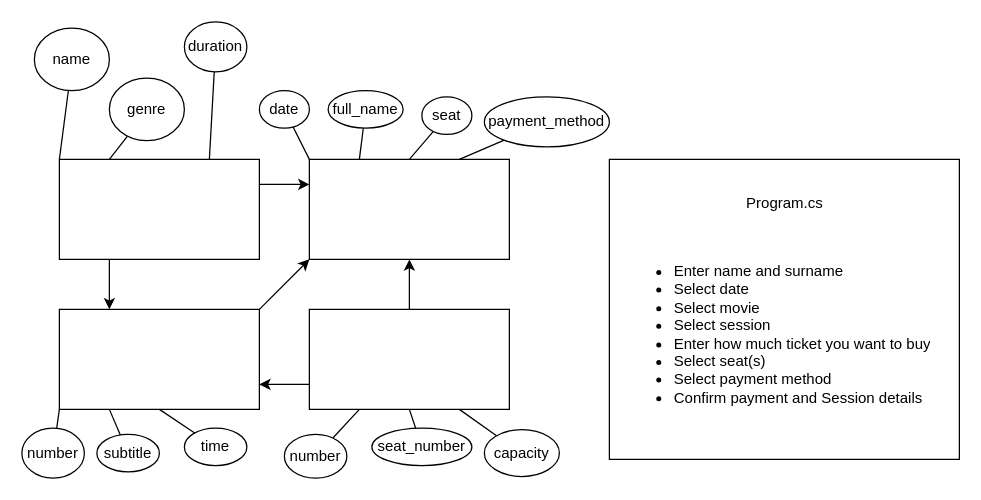
Image size: 981x500. Some labels were removed from this diagram. The shapes that lost their labels are listed below. From the top down, each one's centre as x and y in pixels, then its label:
At point 158,208: "Movie.cs".
At point 408,208: "Reservation.cs".
At point 158,358: "Session.cs".
At point 408,358: "Hall.cs".
